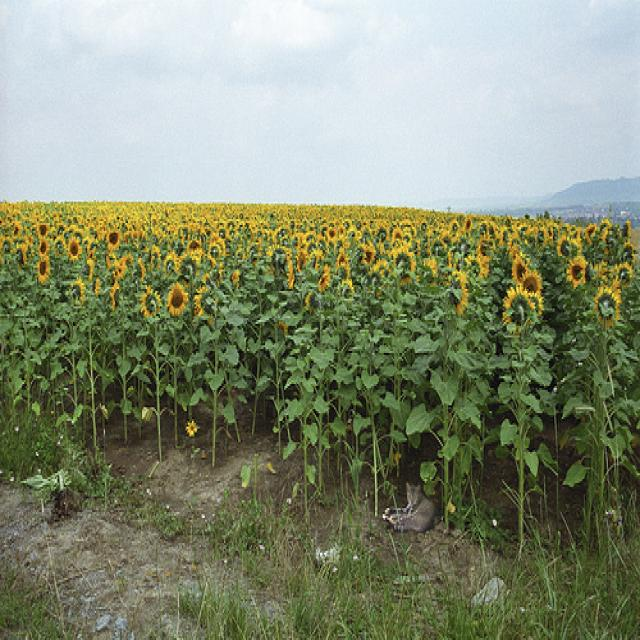sunflower: (502, 284, 530, 334), (594, 284, 622, 325), (392, 245, 414, 284), (520, 267, 544, 301), (138, 286, 160, 320), (167, 278, 186, 315), (566, 254, 587, 285), (32, 258, 50, 284), (104, 227, 122, 250), (65, 233, 80, 259), (361, 243, 374, 267)
